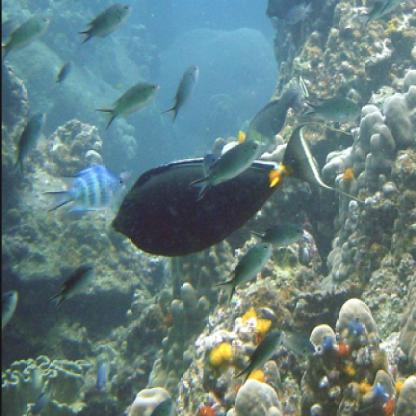surgeon: (110, 122, 366, 258)
